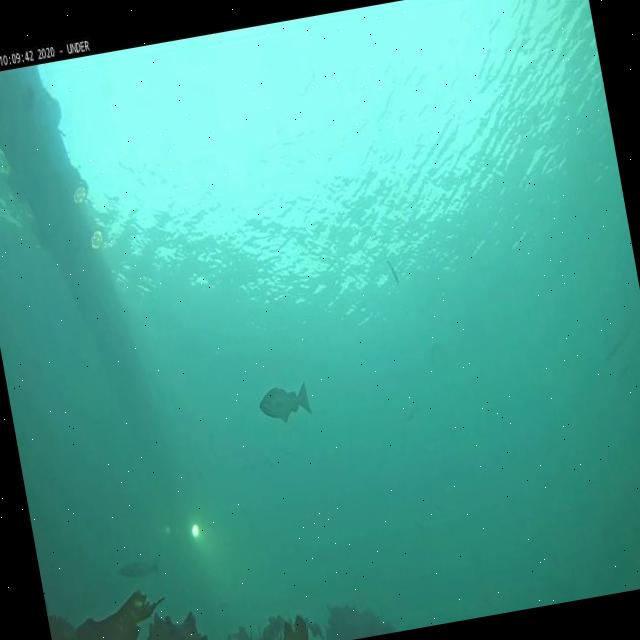fish: (255, 380, 312, 426), (116, 556, 162, 579), (382, 252, 398, 284), (406, 401, 422, 421)
